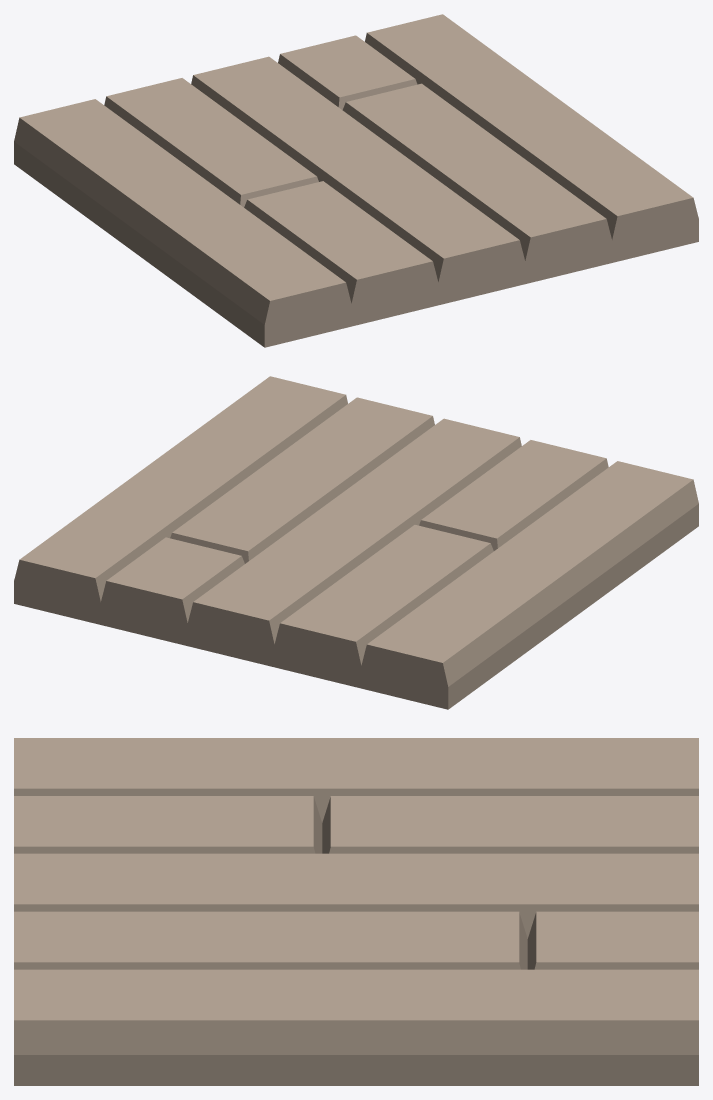
The model's file is Wood_Floor_Straight_1.glb.
3 views of the same model, one above another, from view 1: azimuth 30°, elevation 25°; view 2: azimuth 150°, elevation 25°; view 3: azimuth 270°, elevation 25° (orthographic). The views are drawn at different scales.
Visible parts, largest first — view 1: object1; view 2: object1; view 3: object1.
Boxes of the visible parts, x1,y1,x2,y2 form: object1: (14, 14, 698, 347); object1: (14, 376, 698, 709); object1: (14, 738, 698, 1085).
Bounding box in the file's own units: 1 × 0.1 × 1.
